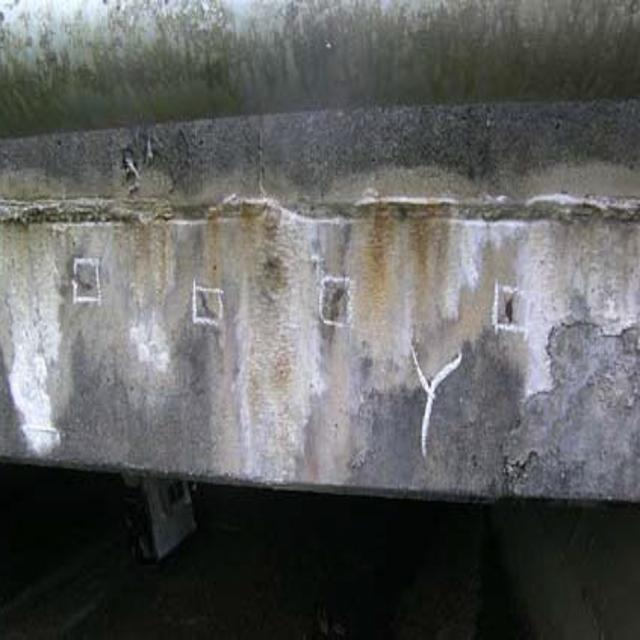freelime: (16, 203, 597, 403)
